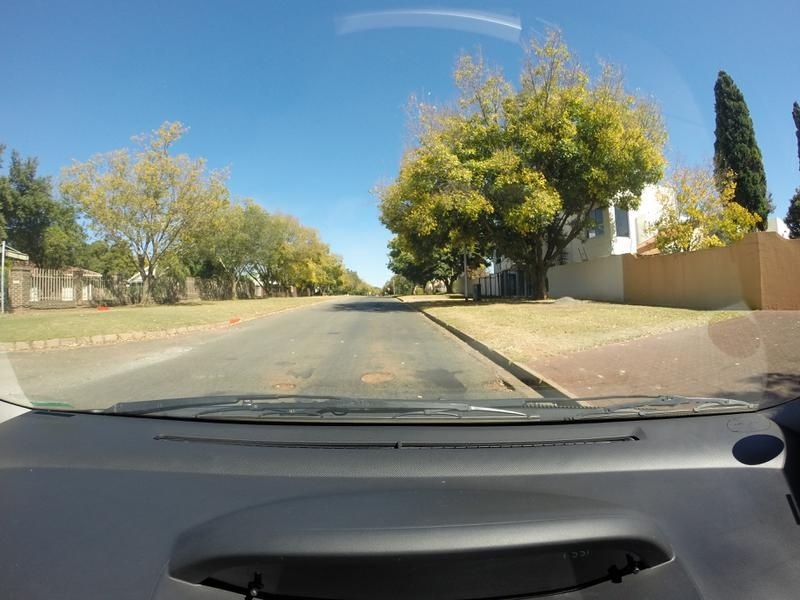pothole: (348, 366, 396, 385), (482, 377, 515, 394), (266, 376, 298, 393)
